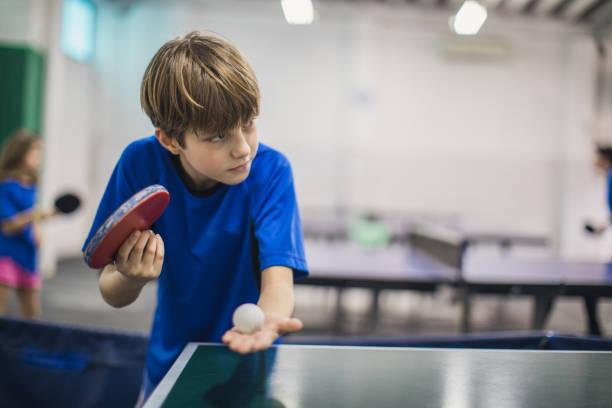ball_pingpong: (233, 302, 266, 334)
